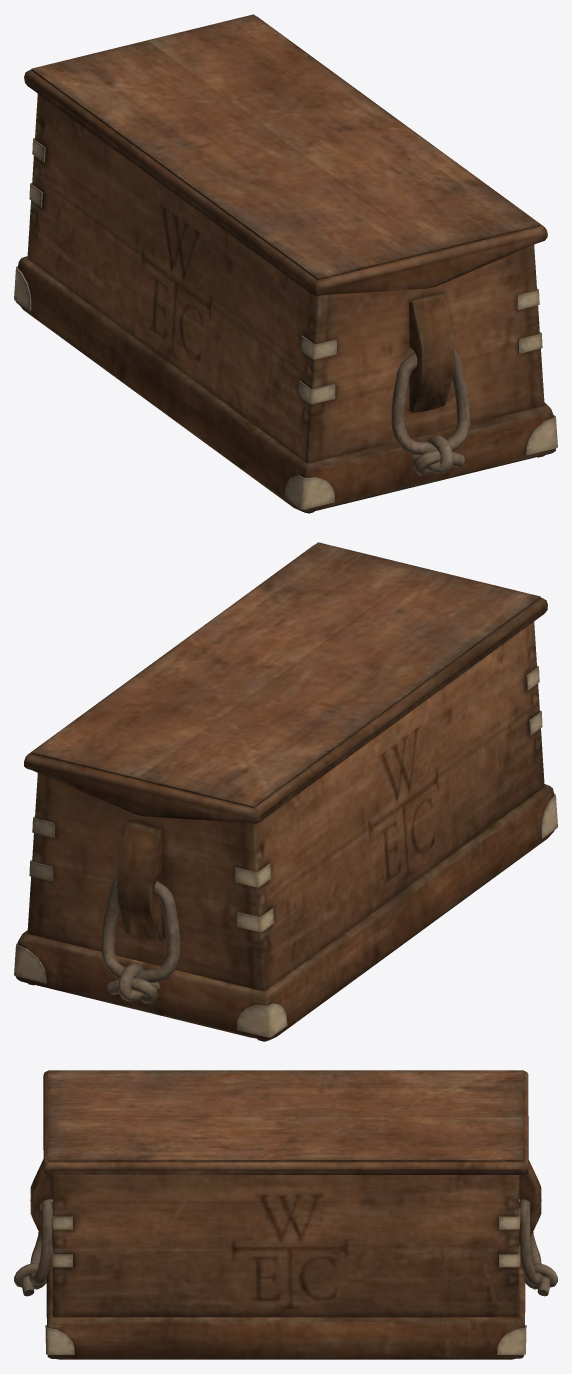
The model's file is wooden_crate_02.glb.
The picture shows the model from 3 angles, top to bottom: view 1: azimuth 30°, elevation 25°; view 2: azimuth 150°, elevation 25°; view 3: azimuth 270°, elevation 25°; orthographic projection. The views are drawn at different scales.
Parts seen in each view (by area): view 1: wooden_crate_02; view 2: wooden_crate_02; view 3: wooden_crate_02.
Part boxes in pixels (x1,y1,x2,y2): wooden_crate_02: [14, 14, 557, 513]; wooden_crate_02: [14, 542, 557, 1041]; wooden_crate_02: [14, 1070, 557, 1359].
Bounding box in the file's own units: 0.5291 × 0.464 × 1.17.
Materials: 1 (1 with a texture image).
